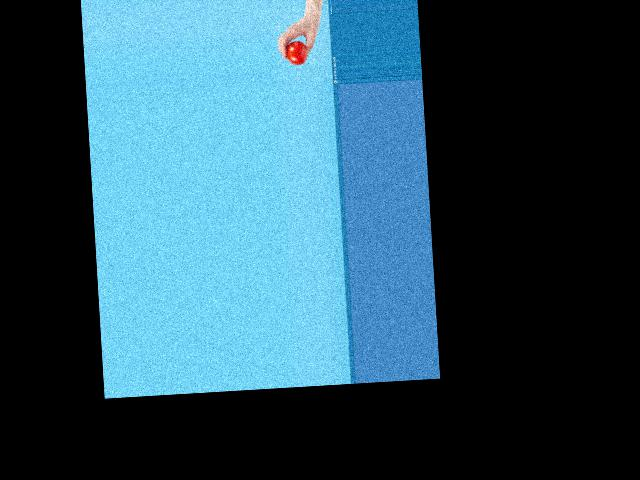tomato: (285, 40, 307, 65)
